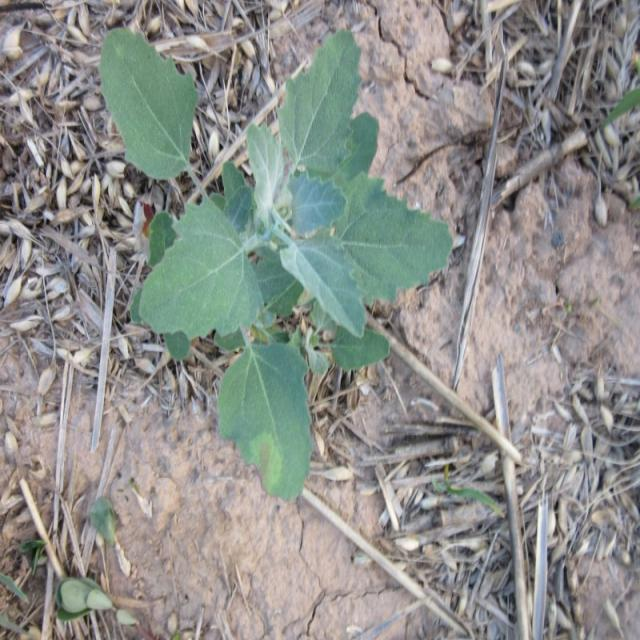ca: (100, 22, 456, 501)
